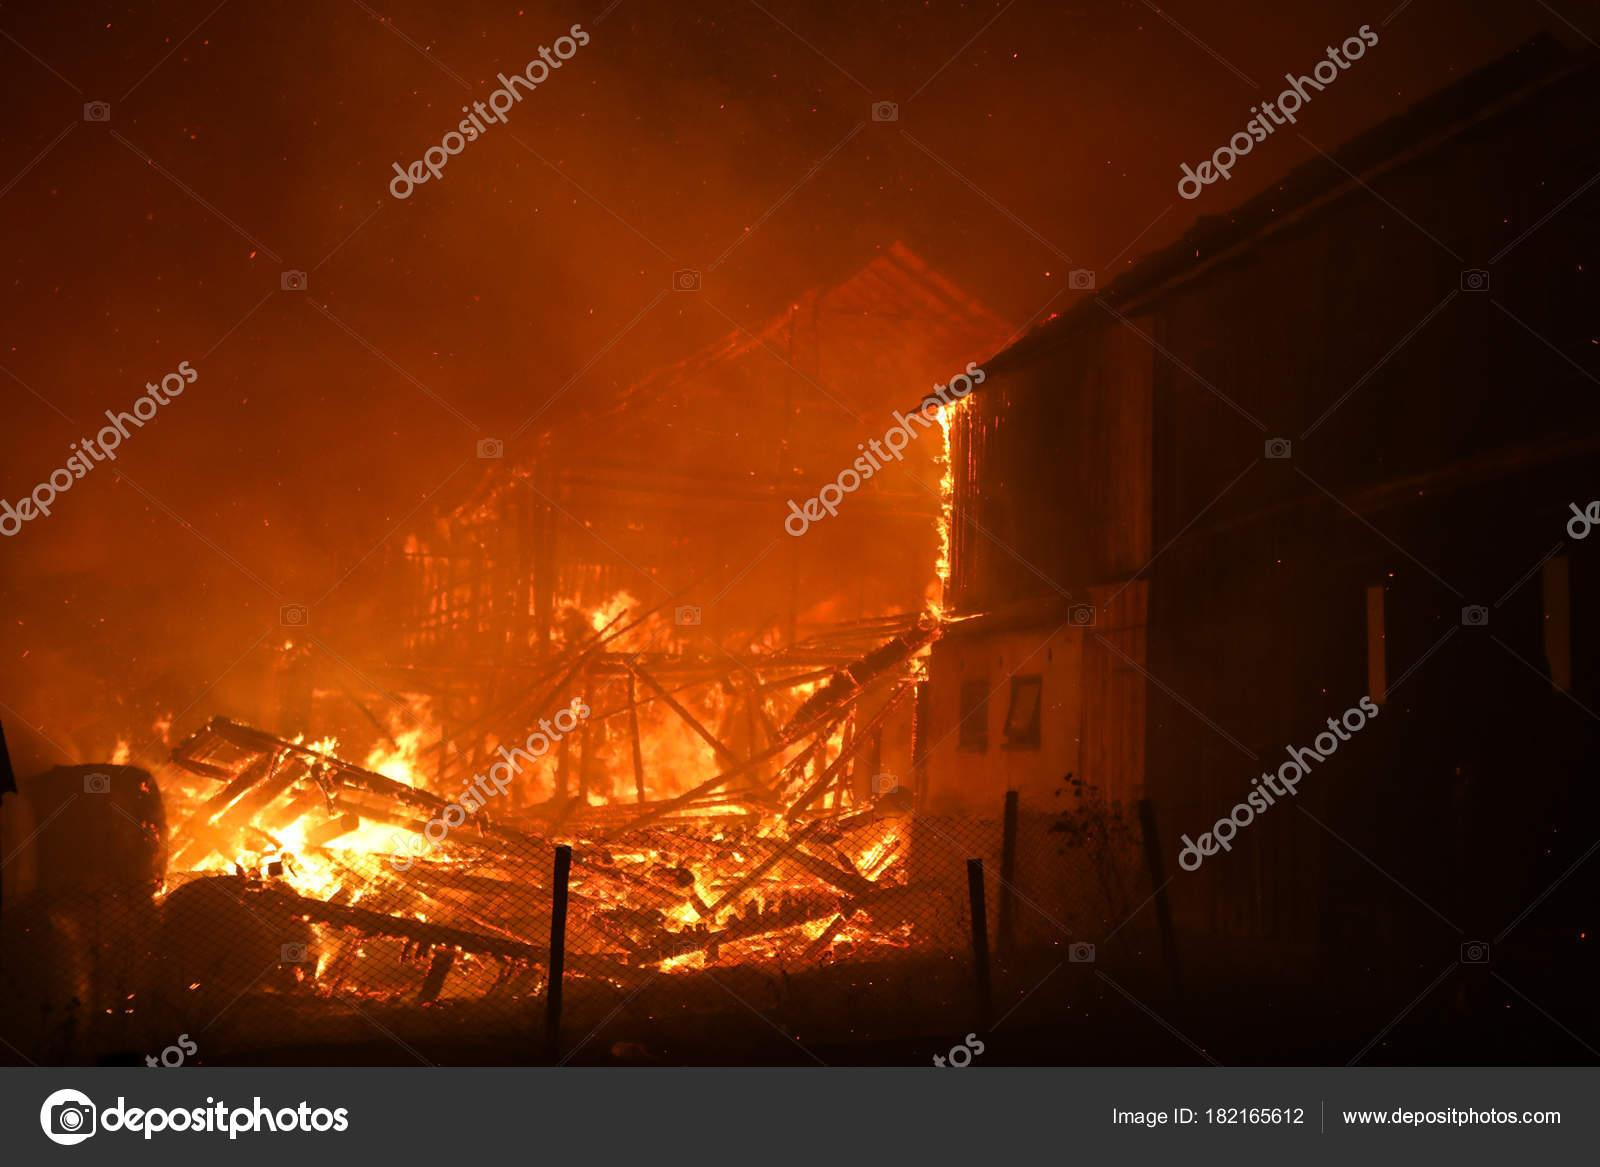Fire: (171, 488, 930, 981)
